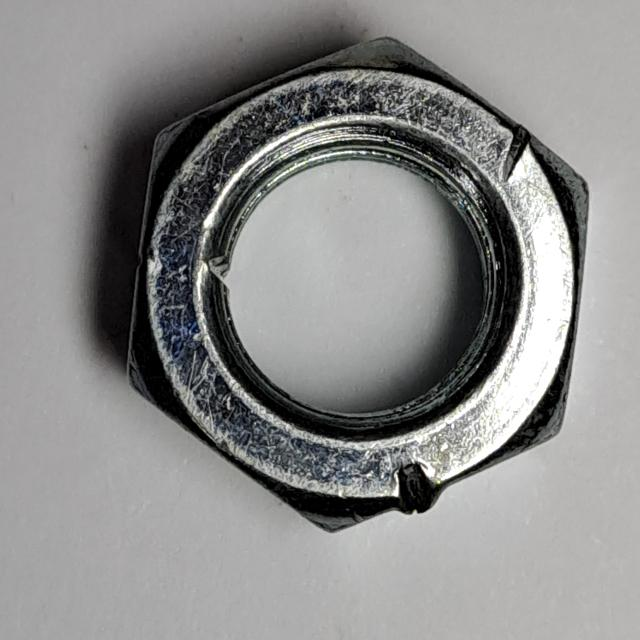Scratches: (113, 29, 600, 545)
